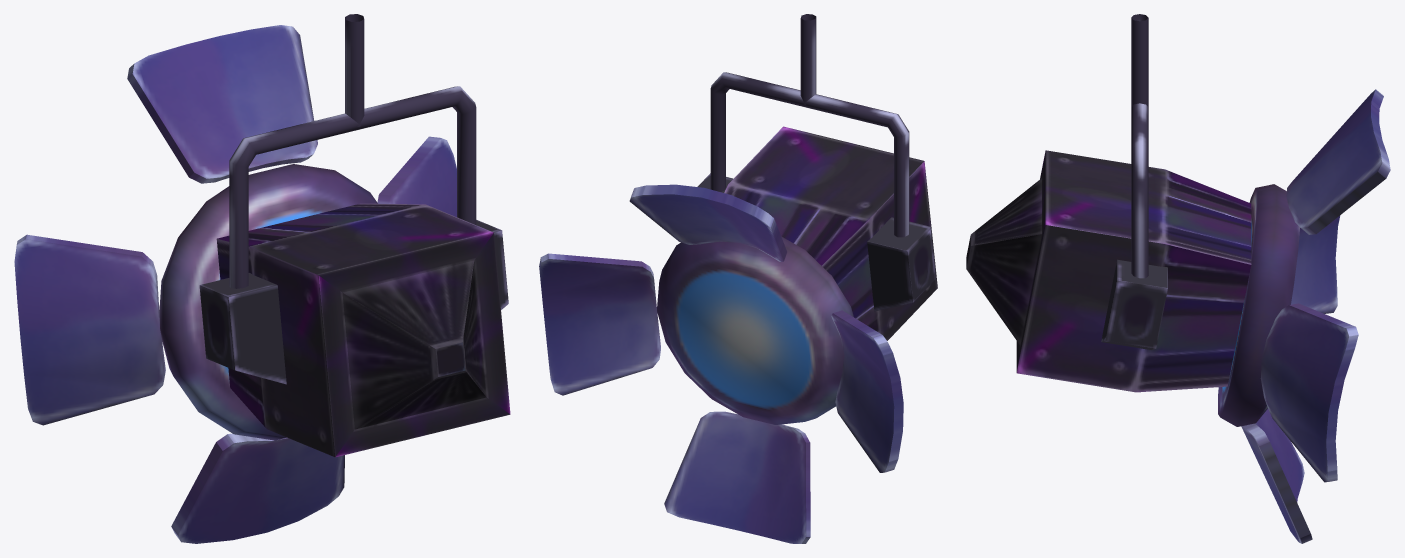
Rendered from Julebu_Deng6_fbx.FBX.
The picture shows the model from 3 angles, left to right: view 1: azimuth 30°, elevation 25°; view 2: azimuth 150°, elevation 25°; view 3: azimuth 270°, elevation 25°; orthographic projection. The views are drawn at different scales.
Parts seen in each view (by area): view 1: Object028; view 2: Object028; view 3: Object028.
Boxes of the visible parts, left/top/right/bottom form: Object028: left=14, top=14, right=510, bottom=543; Object028: left=539, top=14, right=937, bottom=543; Object028: left=966, top=14, right=1390, bottom=543.
Bounding box in the file's own units: 0.2321 × 0.2857 × 0.2188.
